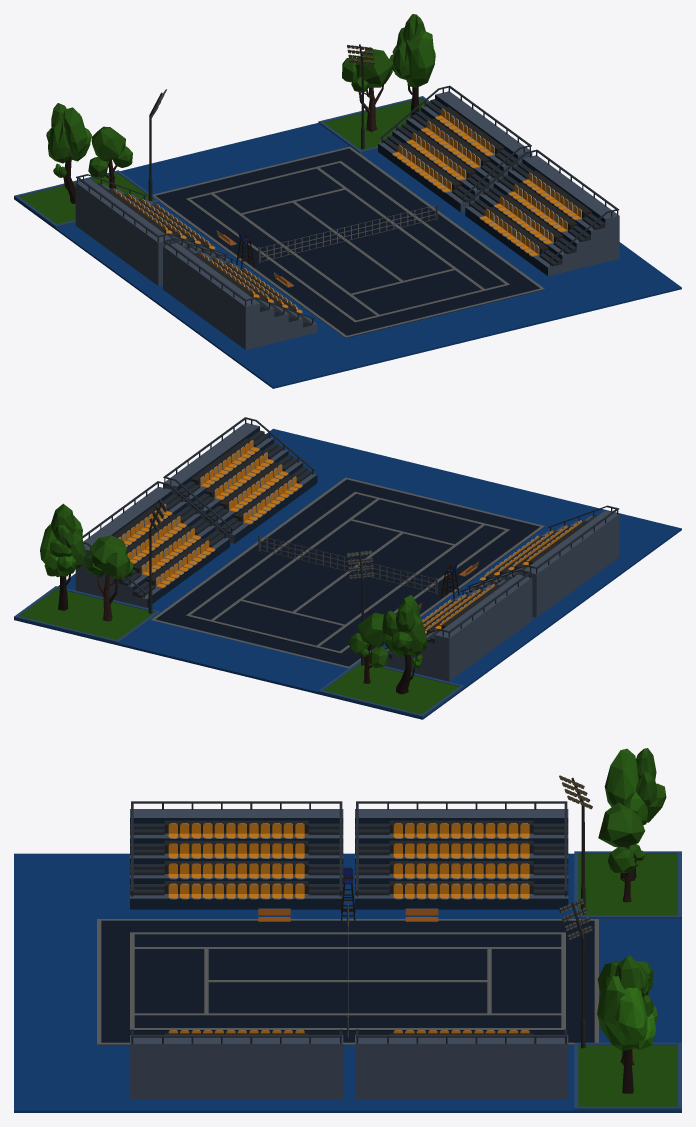
The model's file is TennisCourt.fbx.
The picture shows the model from 3 angles, top to bottom: view 1: azimuth 30°, elevation 25°; view 2: azimuth 150°, elevation 25°; view 3: azimuth 270°, elevation 25°; orthographic projection. The views are drawn at different scales.
Parts seen in each view (by area): view 1: tennis ground_court_1, tennis ground_ground floor_1, tennis ground_seating area 002, tennis ground_seating area 001, tennis ground_seating area 003, tennis ground_seating area 004, tennis ground_tree_0092, tennis ground_tree_0093, tennis ground_tree_00106, tennis ground_tree_00107, tennis ground_outdoor lights_1; view 2: tennis ground_court_1, tennis ground_ground floor_1, tennis ground_seating area 002, tennis ground_seating area 001, tennis ground_seating area 004, tennis ground_seating area 003, tennis ground_tree_0092, tennis ground_tree_0093, tennis ground_tree_00106, tennis ground_tree_00107, tennis ground_outdoor lights_2, tennis ground_outdoor lights_1; view 3: tennis ground_court_1, tennis ground_ground floor_1, tennis ground_seating area 004, tennis ground_seating area 003, tennis ground_seating area 001, tennis ground_seating area 002, tennis ground_tree_0092, tennis ground_tree_0093, tennis ground_tree_00107, tennis ground_outdoor lights_1, tennis ground_outdoor lights_2, tennis ground_benches 001 (+1 smaller).
Part boxes in pixels (x1=…): tennis ground_court_1: x1=152, y1=146, x2=545, y2=338; tennis ground_ground floor_1: x1=14, y1=96, x2=681, y2=388; tennis ground_seating area 002: x1=465, y1=149, x2=619, y2=276; tennis ground_seating area 001: x1=378, y1=85, x2=532, y2=212; tennis ground_seating area 003: x1=163, y1=238, x2=317, y2=349; tennis ground_seating area 004: x1=75, y1=174, x2=229, y2=285; tennis ground_tree_0092: x1=389, y1=14, x2=435, y2=115; tennis ground_tree_0093: x1=46, y1=103, x2=91, y2=203; tennis ground_tree_00106: x1=342, y1=49, x2=392, y2=131; tennis ground_tree_00107: x1=88, y1=126, x2=132, y2=188; tennis ground_outdoor lights_1: x1=347, y1=44, x2=374, y2=149; tennis ground_court_1: x1=151, y1=477, x2=545, y2=668; tennis ground_ground floor_1: x1=14, y1=428, x2=681, y2=719; tennis ground_seating area 002: x1=163, y1=417, x2=317, y2=543; tennis ground_seating area 001: x1=75, y1=481, x2=229, y2=607; tennis ground_seating area 004: x1=384, y1=569, x2=532, y2=681; tennis ground_seating area 003: x1=465, y1=505, x2=619, y2=617; tennis ground_tree_0092: x1=40, y1=503, x2=85, y2=610; tennis ground_tree_0093: x1=382, y1=595, x2=426, y2=694; tennis ground_tree_00106: x1=85, y1=535, x2=133, y2=621; tennis ground_tree_00107: x1=348, y1=612, x2=388, y2=683; tennis ground_outdoor lights_2: x1=347, y1=550, x2=374, y2=665; tennis ground_outdoor lights_1: x1=148, y1=499, x2=167, y2=613; tennis ground_court_1: x1=97, y1=904, x2=598, y2=1044; tennis ground_ground floor_1: x1=14, y1=851, x2=681, y2=1112; tennis ground_seating area 004: x1=355, y1=801, x2=568, y2=909; tennis ground_seating area 003: x1=130, y1=801, x2=343, y2=909; tennis ground_seating area 001: x1=355, y1=1029, x2=568, y2=1099; tennis ground_seating area 002: x1=130, y1=1029, x2=343, y2=1099; tennis ground_tree_0092: x1=597, y1=956, x2=657, y2=1093; tennis ground_tree_0093: x1=604, y1=748, x2=666, y2=881; tennis ground_tree_00107: x1=598, y1=802, x2=644, y2=902; tennis ground_outdoor lights_1: x1=559, y1=898, x2=592, y2=1048; tennis ground_outdoor lights_2: x1=559, y1=775, x2=592, y2=914; tennis ground_benches 001: x1=258, y1=908, x2=438, y2=926.
Size of the model in its own units: 207 by 54.02 by 227.
